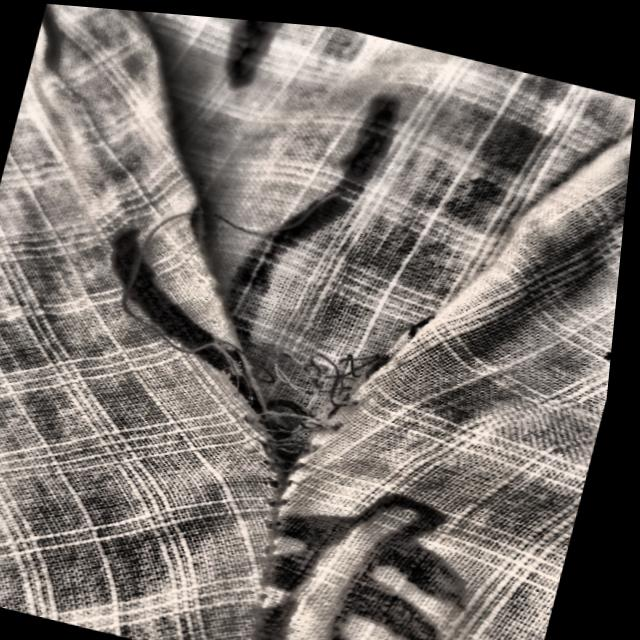Stitch: (72, 137, 433, 529)
